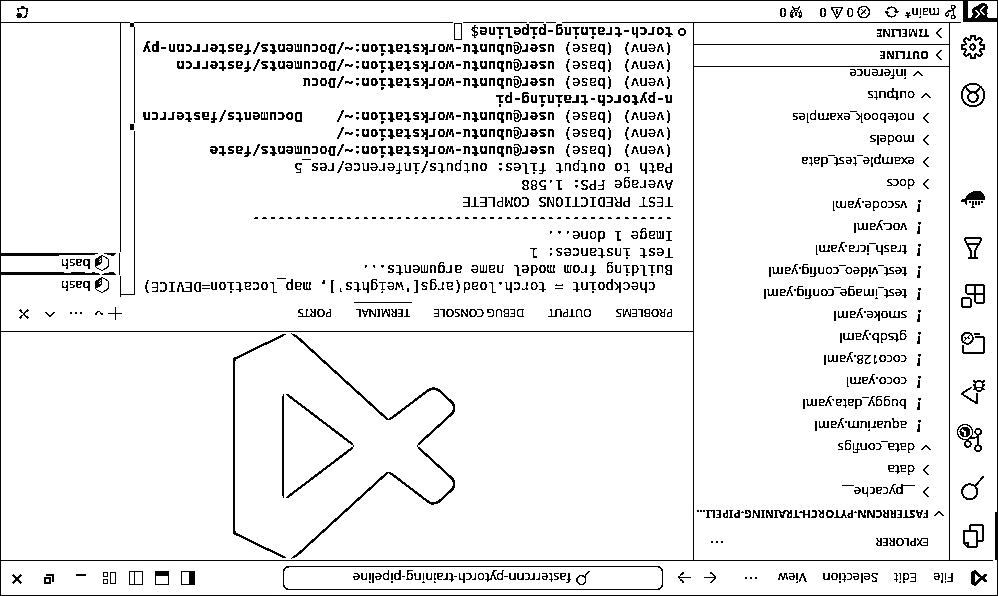Accounts: (956, 81, 996, 116)
Activity Bar: (954, 24, 997, 563)
Close: (3, 25, 697, 335), (10, 570, 30, 590)
Editor: (4, 338, 694, 562)
Explorer: (957, 519, 992, 554)
Extensions: (959, 283, 993, 318)
Manage: (958, 35, 990, 67)
Maximize: (39, 571, 62, 591)
Minimize: (72, 572, 93, 589)
Primary Side Bar: (693, 25, 951, 565)
Run and Debug: (959, 378, 994, 413)
Search: (959, 473, 996, 506)
Search Bar: (281, 565, 672, 593)
Source Control: (958, 422, 994, 462)
Status Bar: (5, 5, 998, 25)
Testing: (958, 231, 996, 269)
Top Bar: (5, 564, 996, 594)
